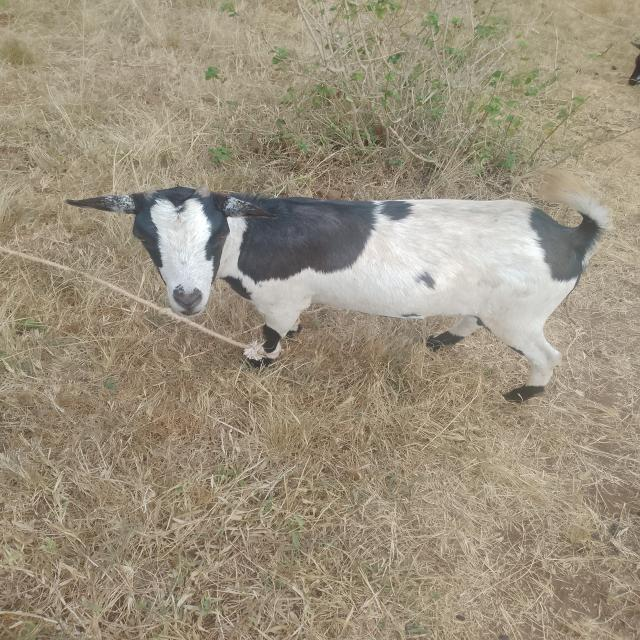goat: (48, 73, 640, 449)
